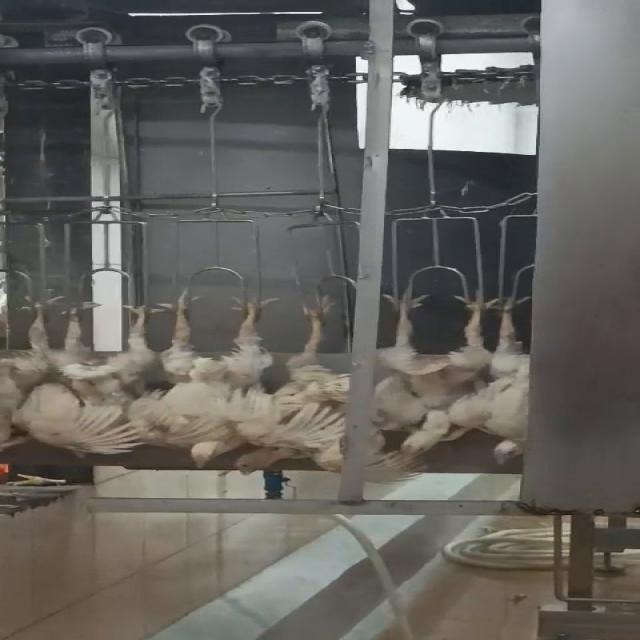chicken: (160, 290, 293, 468), (373, 284, 491, 466), (233, 292, 347, 473), (50, 296, 176, 458), (476, 284, 534, 468), (0, 295, 69, 444)
